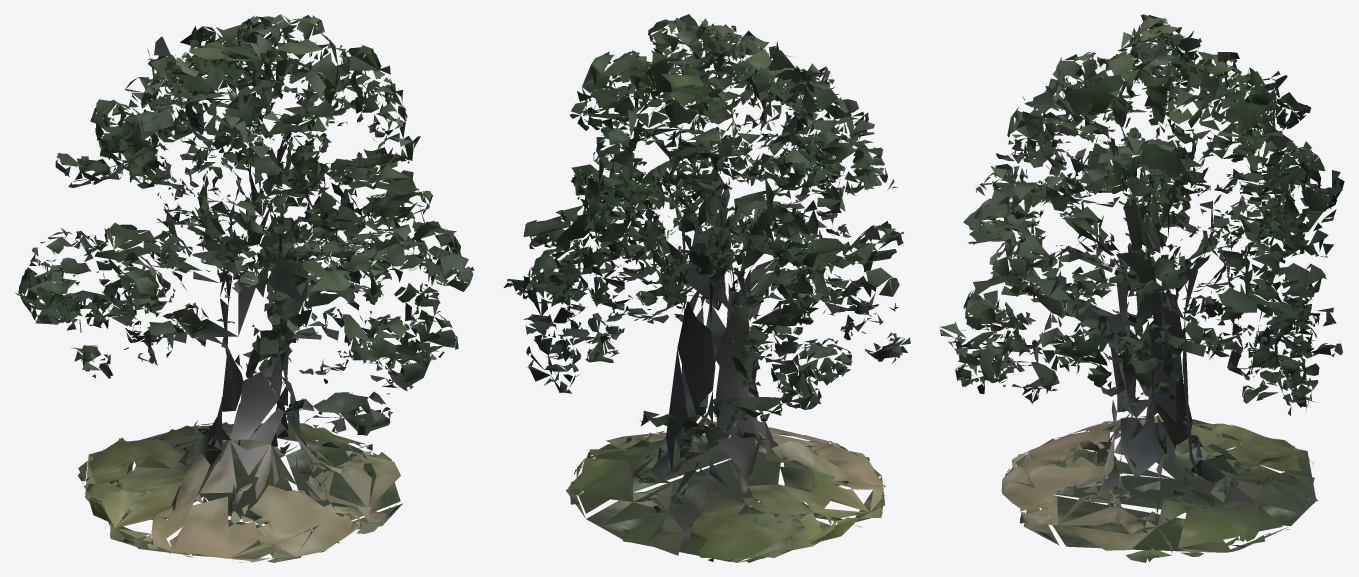
Rendered from broadleaf-c.glb.
The picture shows the model from 3 angles, left to right: view 1: azimuth 30°, elevation 25°; view 2: azimuth 150°, elevation 25°; view 3: azimuth 270°, elevation 25°; orthographic projection.
Visible parts, largest first — view 1: Mesh_0; view 2: Mesh_0; view 3: Mesh_0.
Boxes of the visible parts, x1,y1,x2,y2 form: Mesh_0: [15, 14, 474, 562]; Mesh_0: [503, 14, 910, 562]; Mesh_0: [939, 14, 1344, 562].
Bounding box in the file's own units: 6.24 × 7.95 × 6.17.
1 material, 1 textured.
